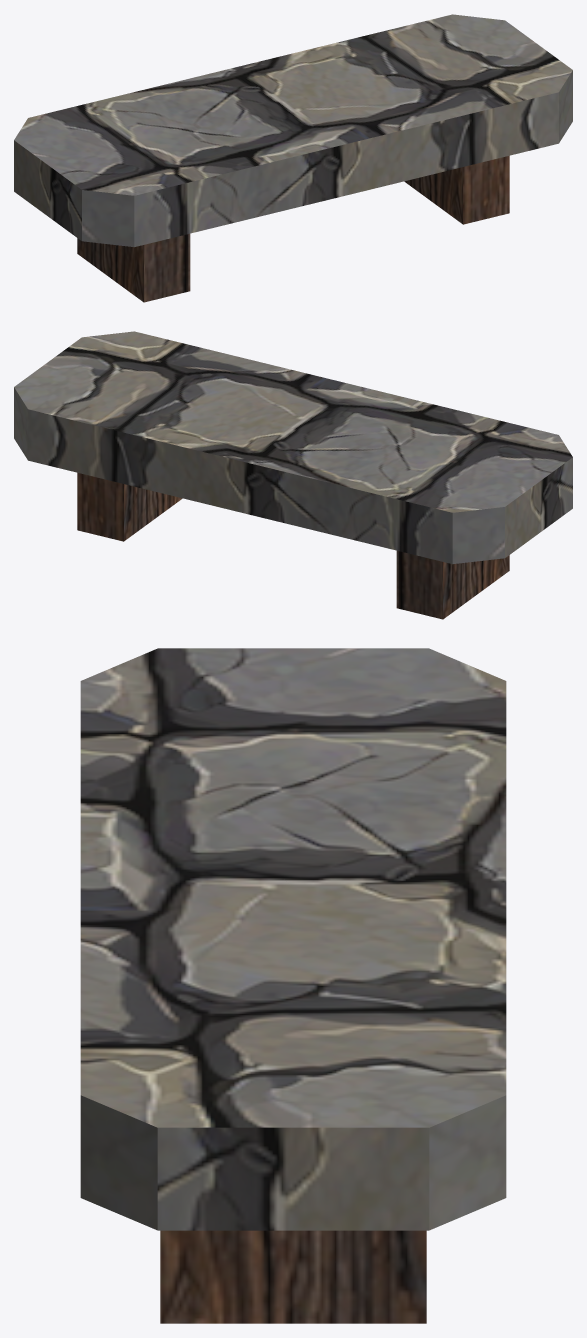
File: prop_bench.glb
The picture shows the model from 3 angles, top to bottom: view 1: azimuth 30°, elevation 25°; view 2: azimuth 150°, elevation 25°; view 3: azimuth 270°, elevation 25°; orthographic projection. The views are drawn at different scales.
Parts seen in each view (by area): view 1: bench; view 2: bench; view 3: bench.
Boxes of the visible parts, left/top/right/bottom form: bench: left=14, top=14, right=572, bottom=302; bench: left=14, top=331, right=572, bottom=619; bench: left=80, top=648, right=506, bottom=1323.
Bounding box in the file's own units: 0.4 × 0.1 × 0.15.
2 materials, 2 textured.
